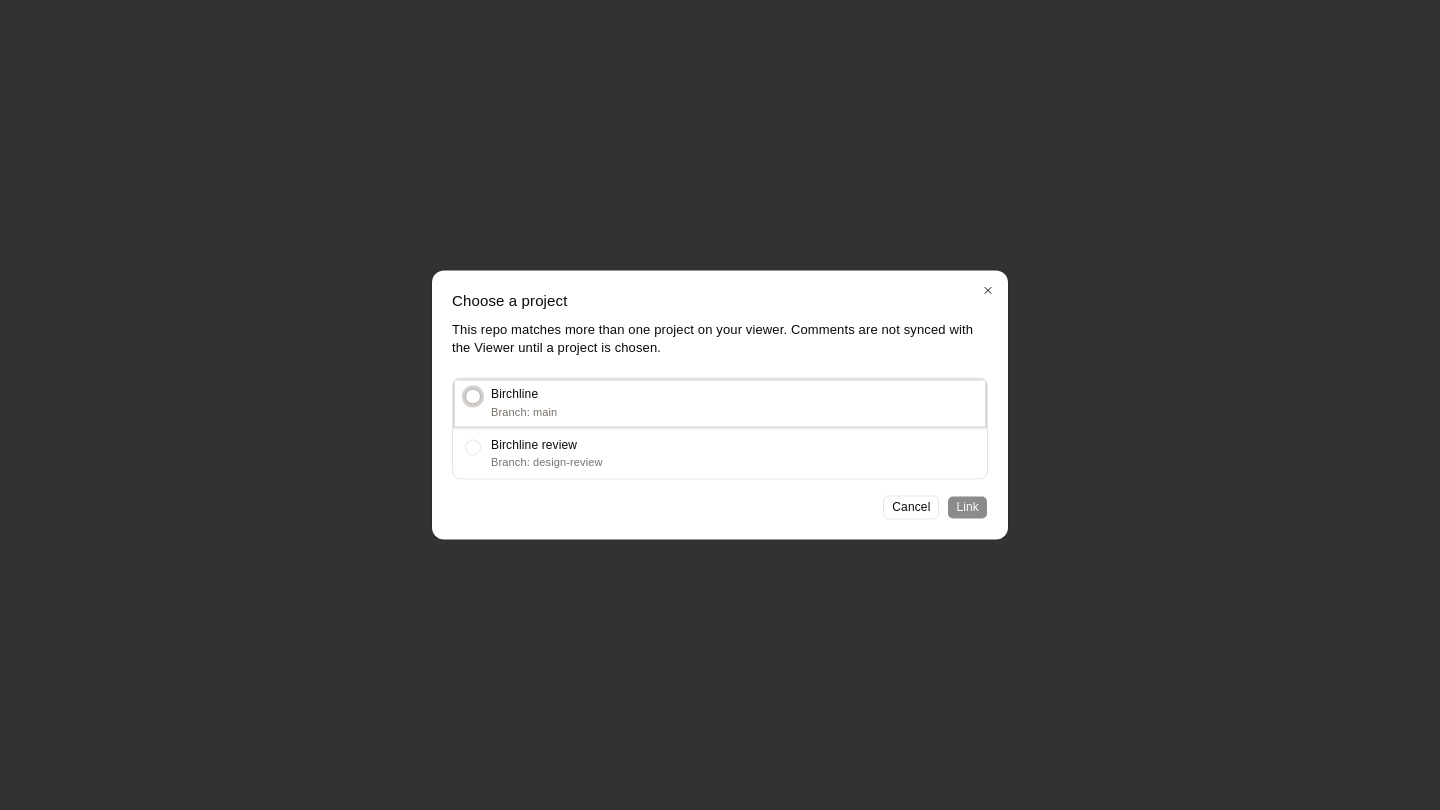
Test: ChooseViewerProjectDialog › cannot link until a row is chosen
Expected: the button "Link" is disabled, [948, 496, 988, 520]
Click the label with test id "viewer-candidate-review" at (534, 453), box [465, 438, 603, 469]
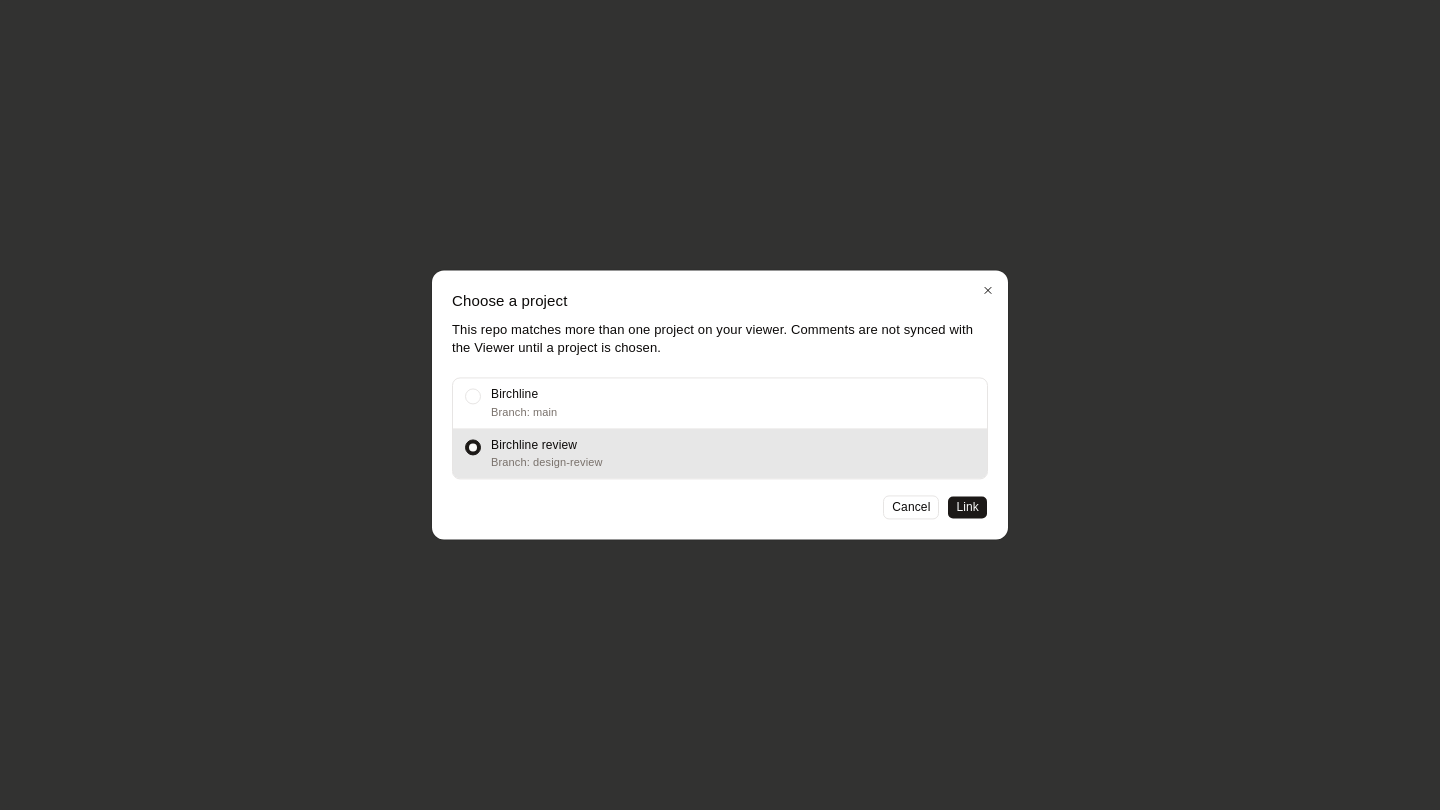
Result: the button "Link" is enabled at [948, 496, 988, 520]
